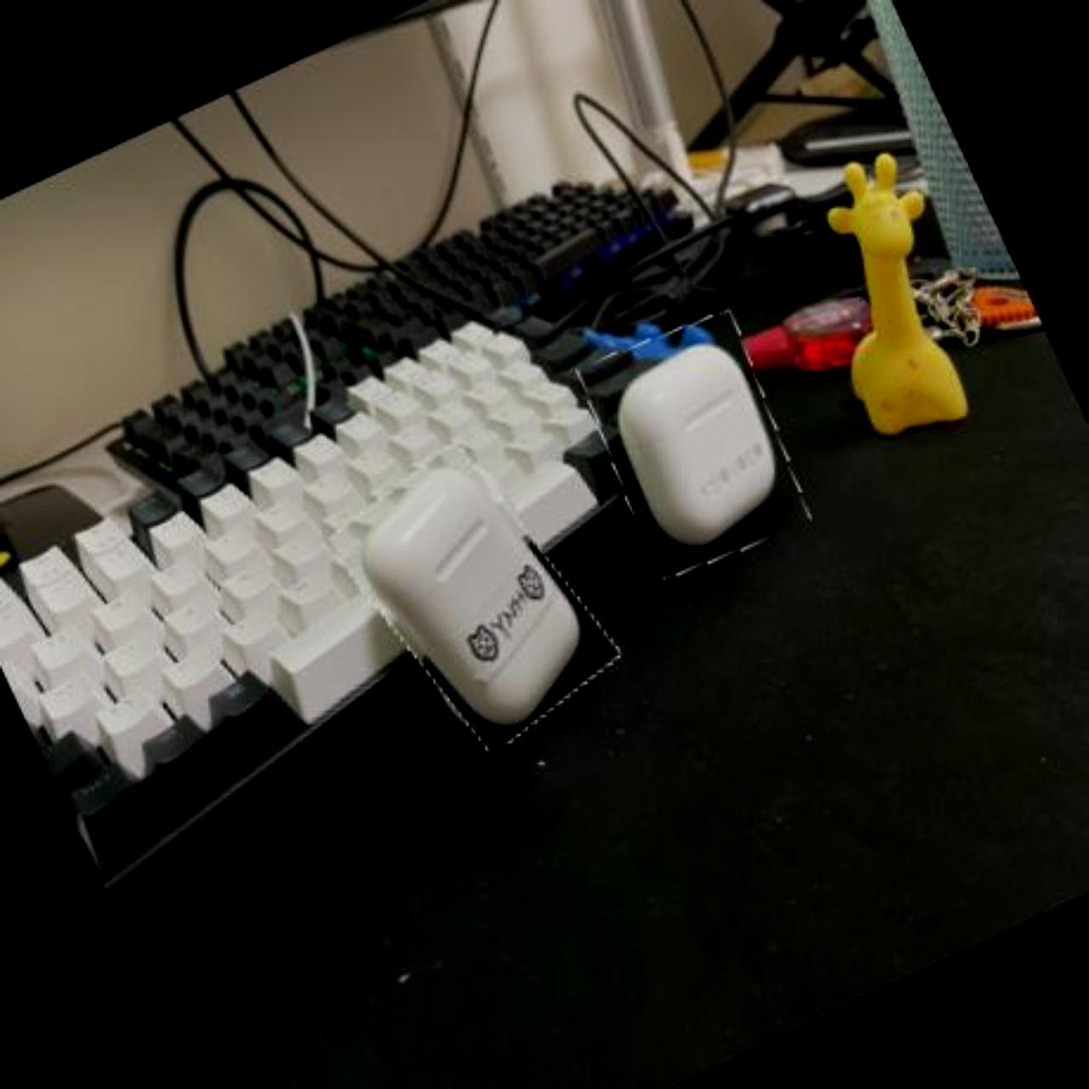AirPods: (327, 428, 621, 765), (569, 302, 821, 583)
